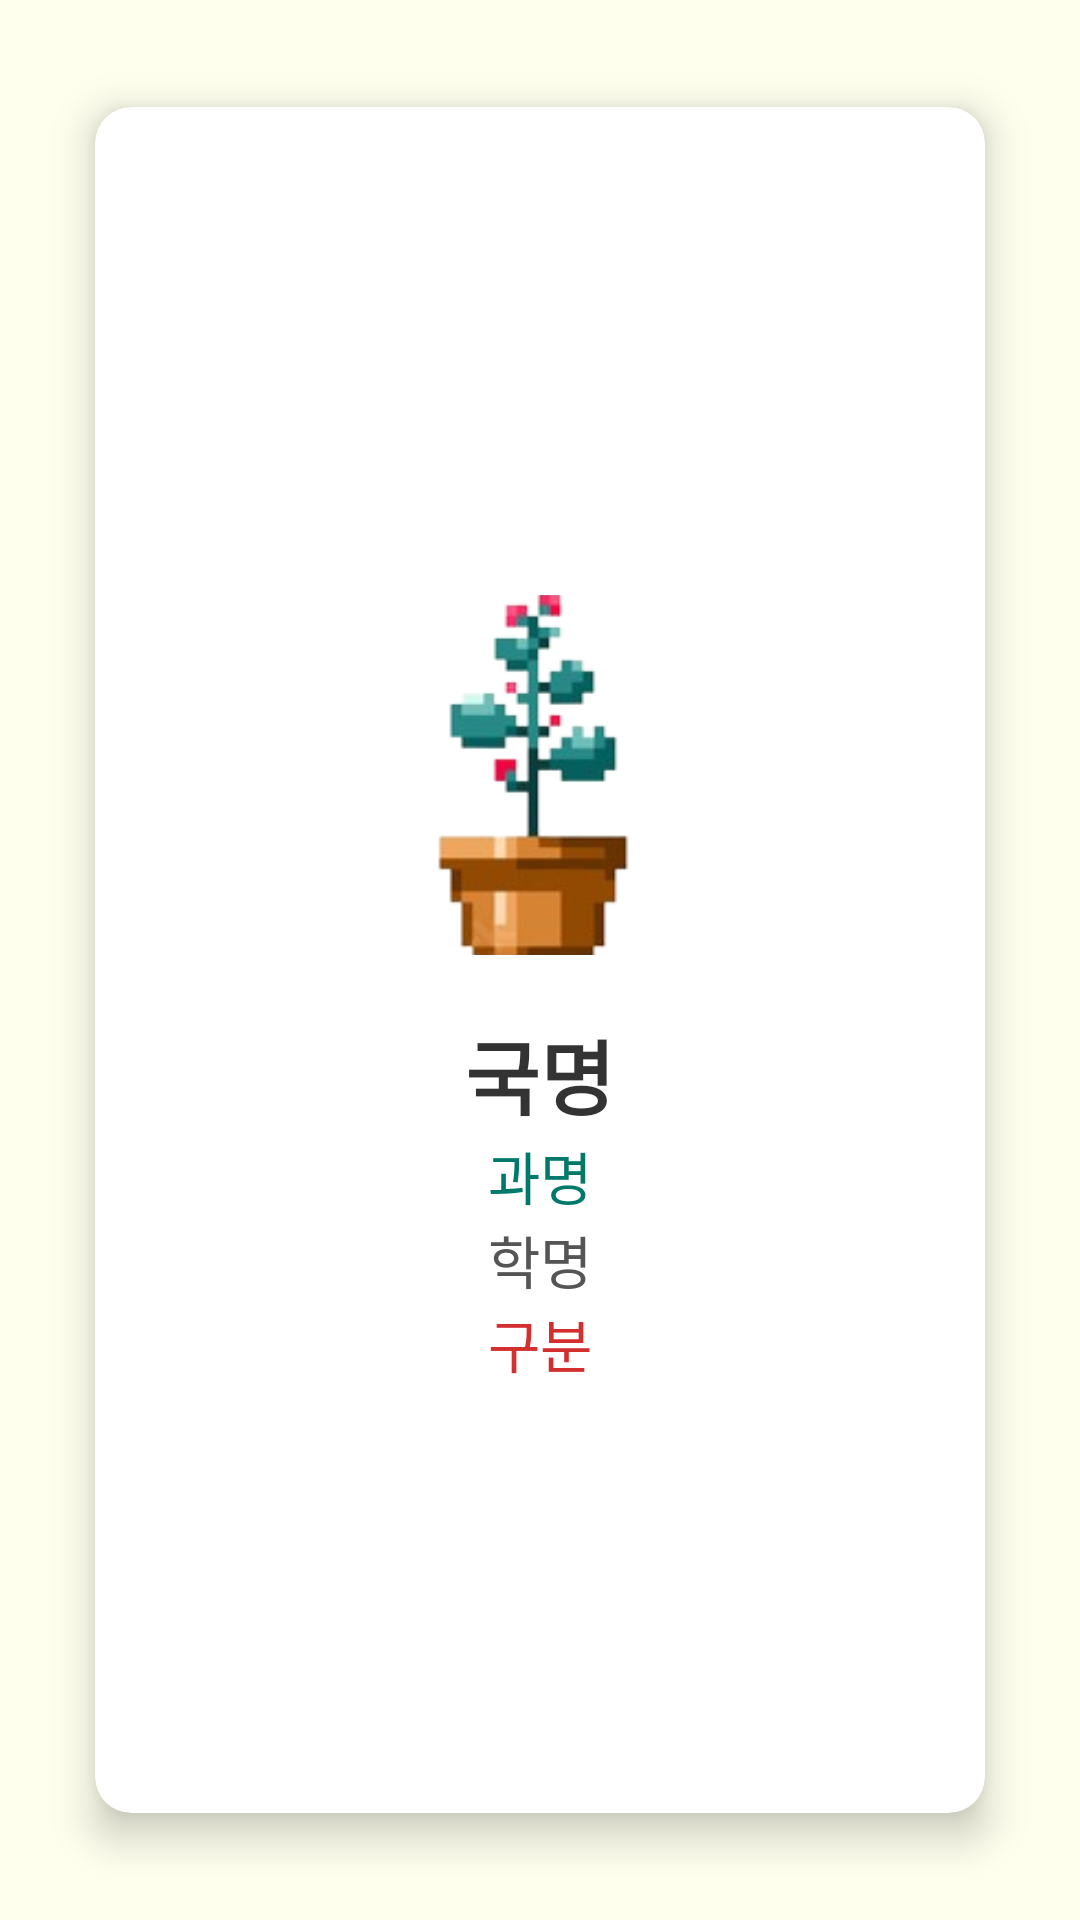

Icons on this 1080x1920 Android screen, each with the point to tap as point (x, y):
plant: point (533, 775)
